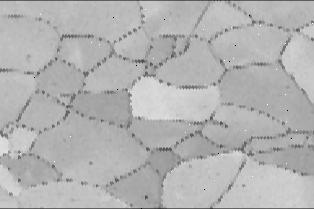good_void: (48, 79, 59, 88), (23, 52, 32, 62), (87, 159, 97, 167), (142, 193, 151, 200), (241, 182, 247, 189), (284, 84, 292, 89)
